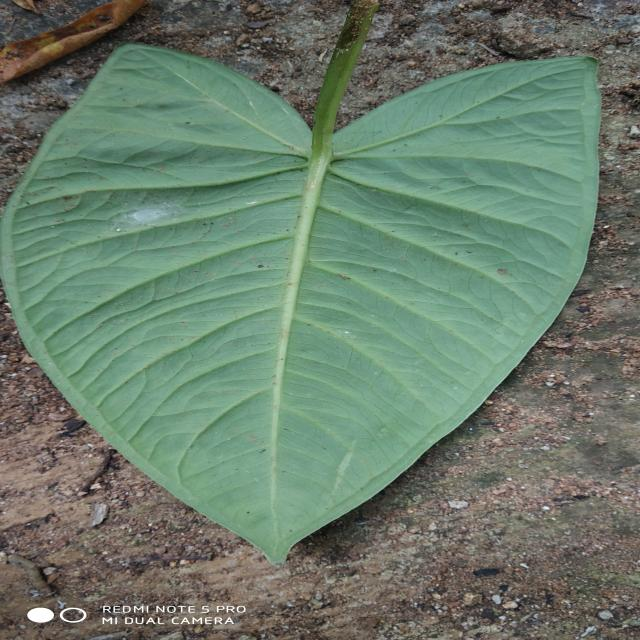taro: (2, 0, 600, 562)
